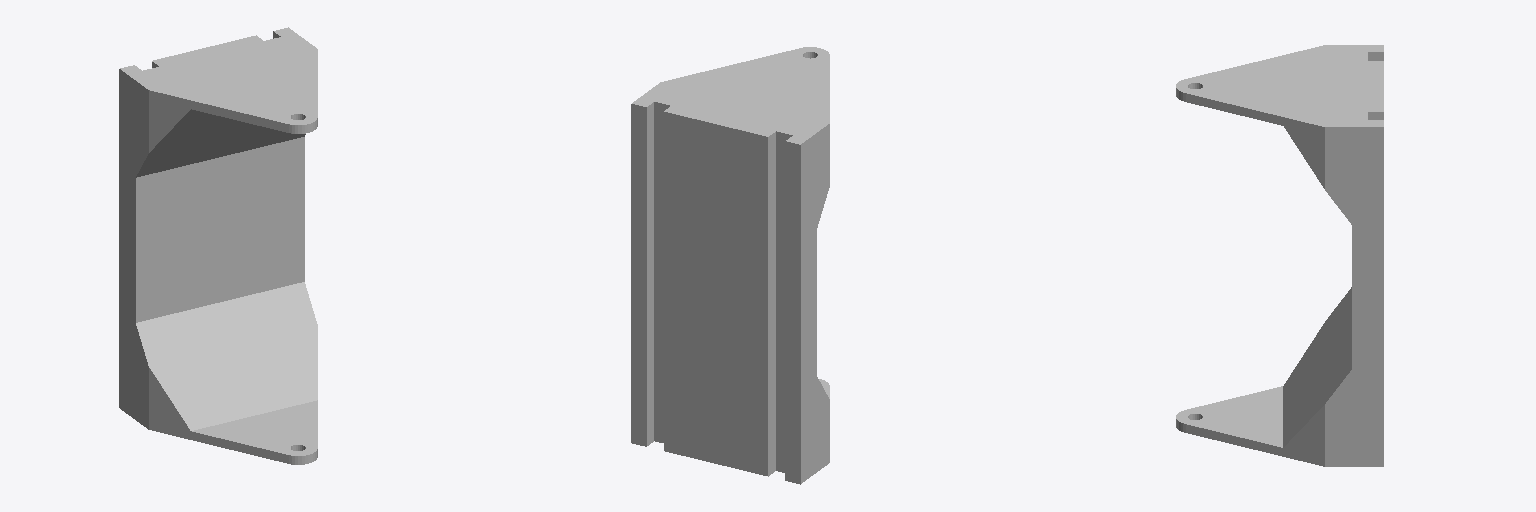
The model's file is Y_axis.obj.
3 renders of one model, left to right at view 1: azimuth 30°, elevation 25°; view 2: azimuth 150°, elevation 25°; view 3: azimuth 270°, elevation 25°, orthographic.
Parts seen in each view (by area): view 1: Solid1; view 2: Solid1; view 3: Solid1.
Part boxes in pixels (left/top/right/bottom): Solid1: left=119, top=27, right=317, bottom=464; Solid1: left=631, top=47, right=829, bottom=484; Solid1: left=1176, top=45, right=1383, bottom=466.
Bounding box in the file's own units: 200 × 384 × 213.